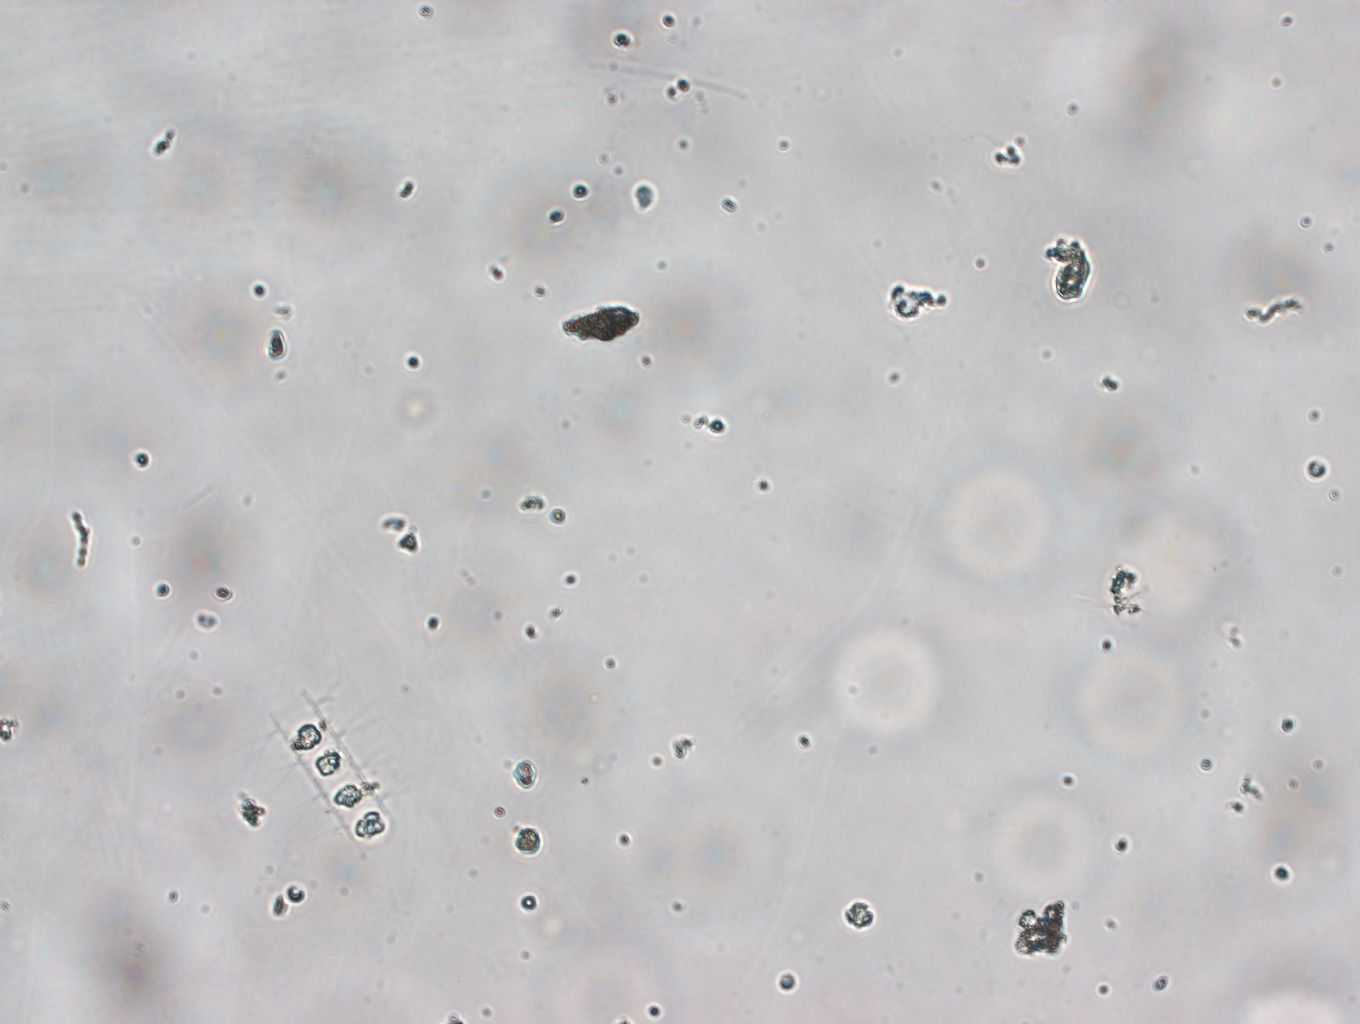chaetoceros: (252, 662, 409, 870)
